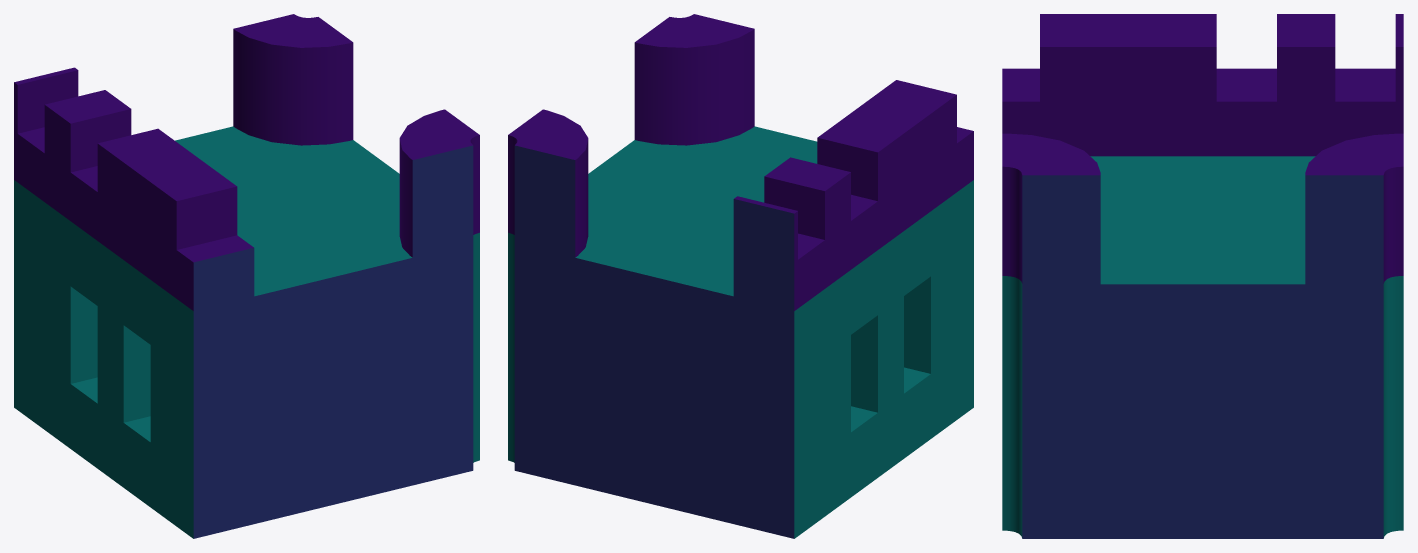
The model's file is Roof_04_C_B.fbx.
The picture shows the model from 3 angles, left to right: view 1: azimuth 30°, elevation 25°; view 2: azimuth 150°, elevation 25°; view 3: azimuth 270°, elevation 25°; orthographic projection. The views are drawn at different scales.
Parts seen in each view (by area): view 1: 3, 1, 4, 2; view 2: 4, 2, 3, 1; view 3: 1, 2, 3, 4.
Part boxes in pixels (x1=…): 3: x1=103, y1=133, x2=333, y2=538; 1: x1=244, y1=109, x2=479, y2=504; 4: x1=14, y1=67, x2=243, y2=472; 2: x1=175, y1=14, x2=398, y2=211; 4: x1=654, y1=133, x2=884, y2=538; 2: x1=508, y1=109, x2=733, y2=504; 3: x1=758, y1=80, x2=973, y2=472; 1: x1=589, y1=14, x2=817, y2=208; 1: x1=1002, y1=133, x2=1202, y2=538; 2: x1=1203, y1=133, x2=1403, y2=538; 3: x1=1002, y1=14, x2=1202, y2=199; 4: x1=1203, y1=14, x2=1403, y2=199.
Size of the model in its own units: 190 by 200 by 200.
